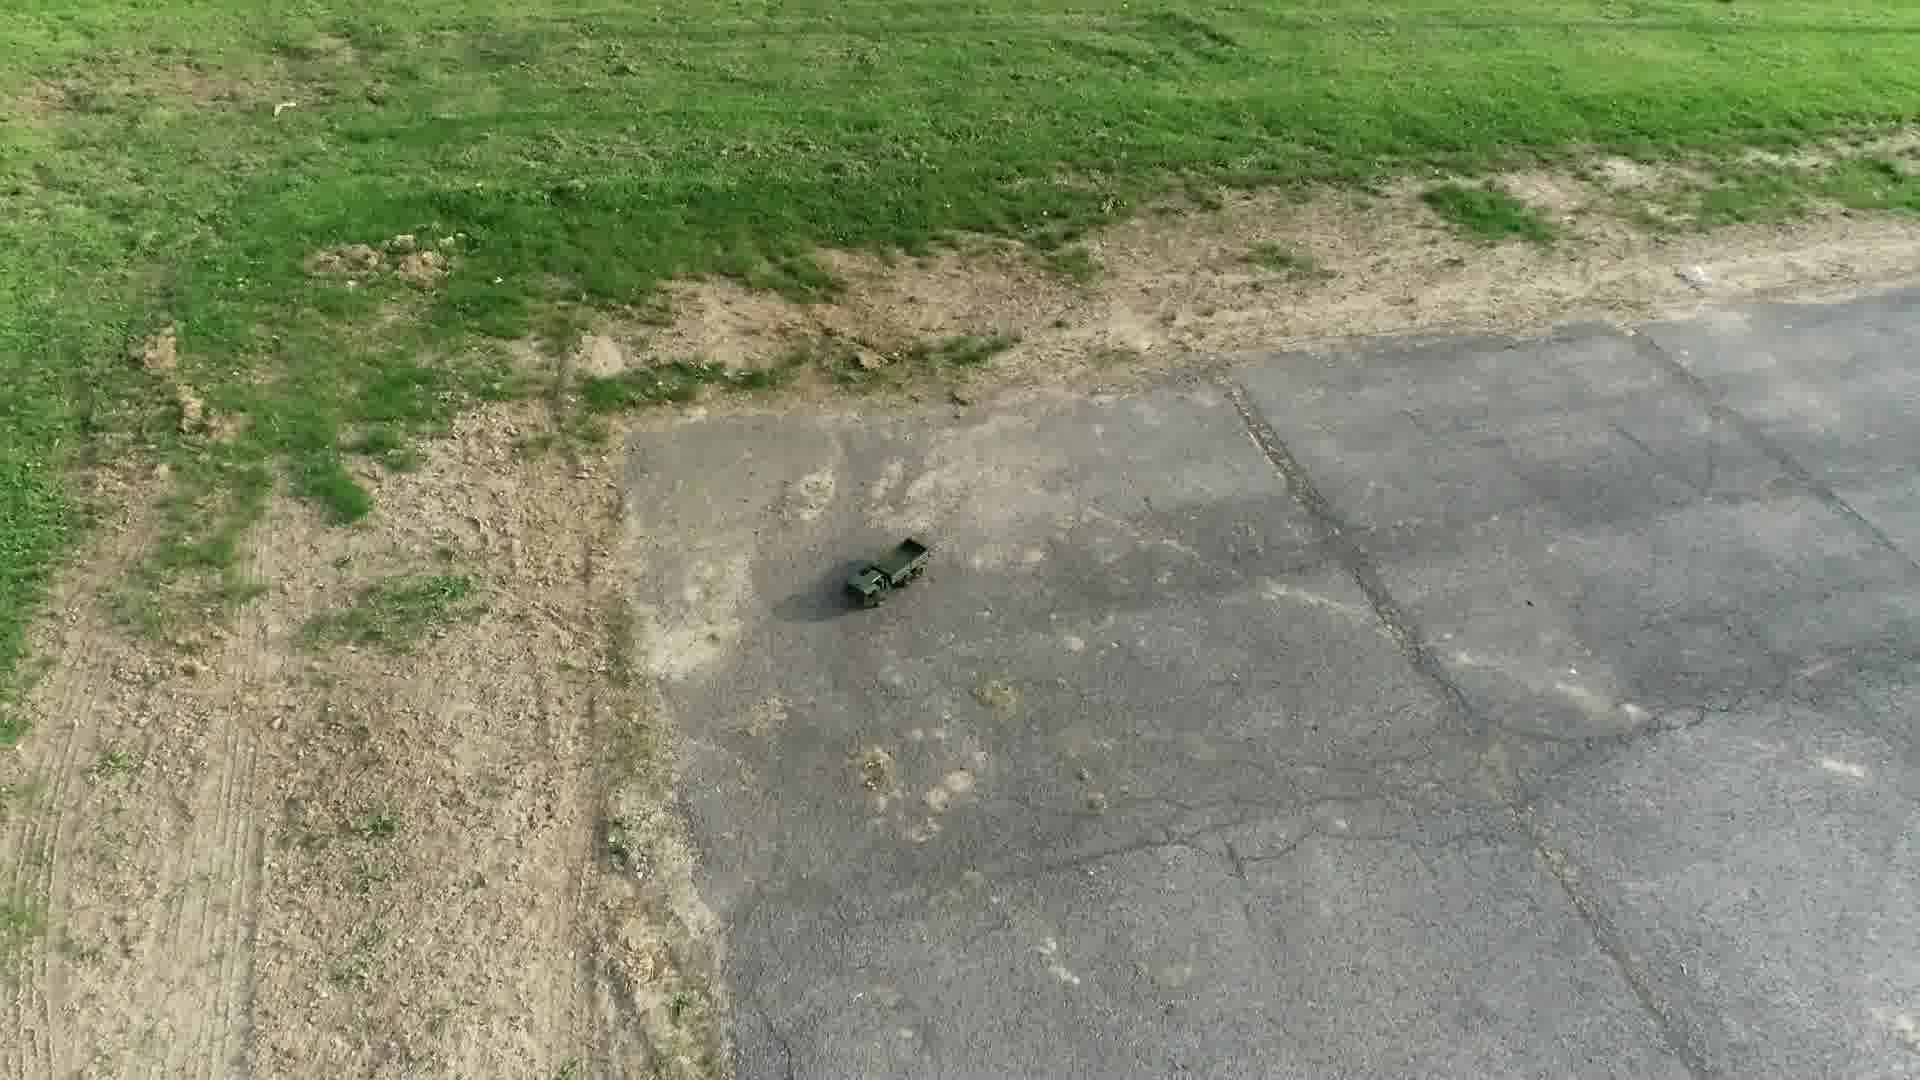transporter9: (837, 534, 936, 611)
